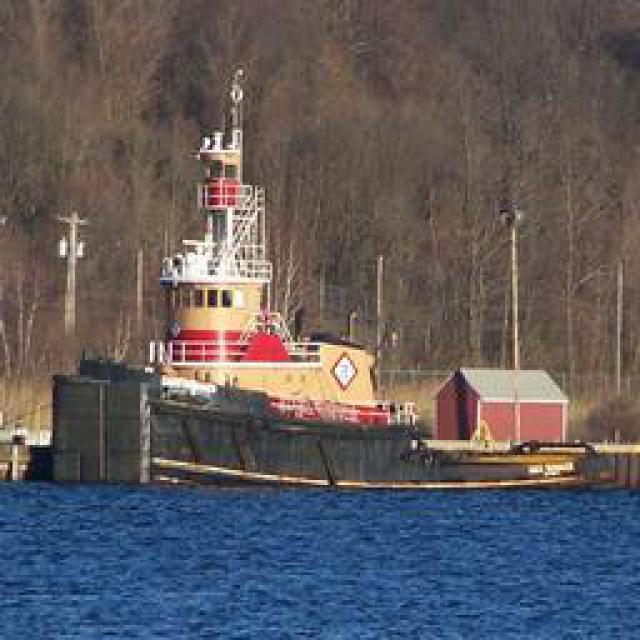Ship: (55, 113, 595, 507)
